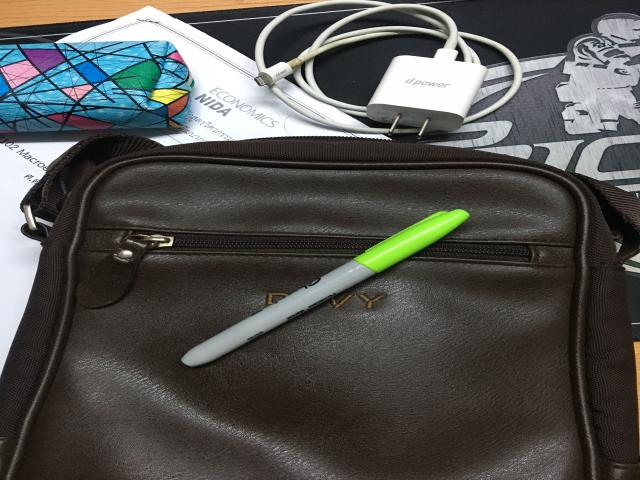paper: (0, 7, 385, 350)
wire: (255, 0, 520, 135)
